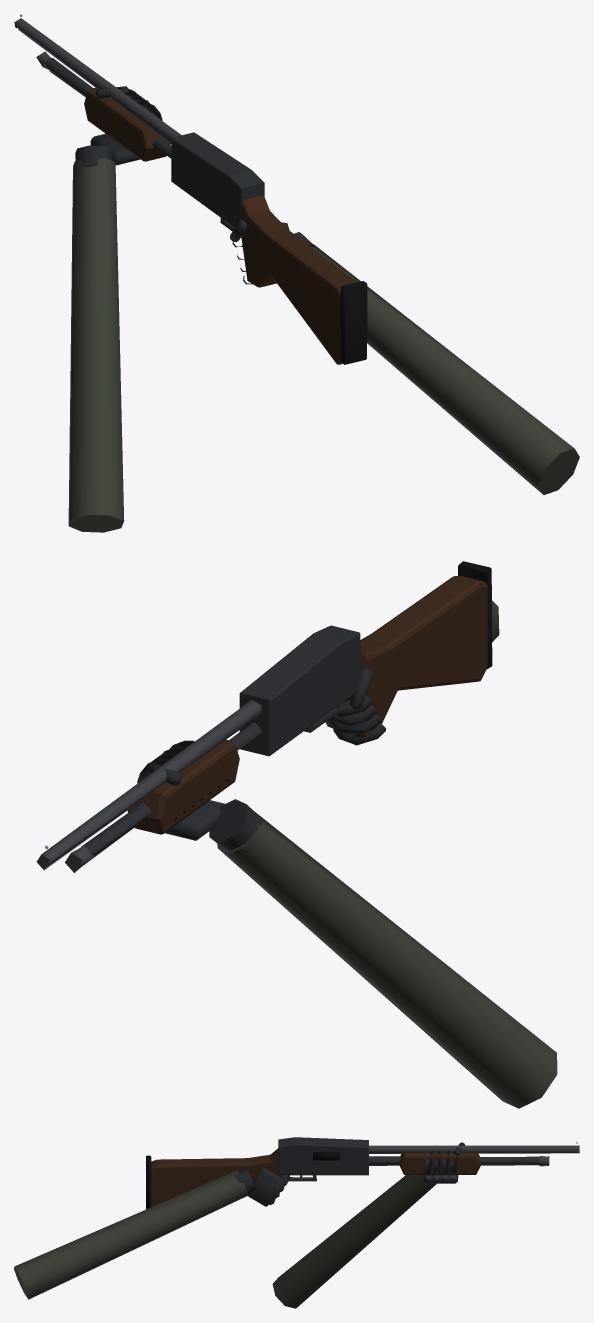
File: shotgun.glb
3 views of the same model, one above another, from view 1: azimuth 30°, elevation 25°; view 2: azimuth 150°, elevation 25°; view 3: azimuth 270°, elevation 25° (orthographic). The views are drawn at different scales.
Parts seen in each view (by area): view 1: Gloves (×2), object 5, object 1, object 3, object 2; view 2: Gloves (×2), object 5, object 1, object 3, object 2; view 3: Gloves (×2), object 5, object 1, object 3, object 2.
Part boxes in pixels (box(x1,y1,x2,y2)): Gloves (×2): box(68, 86, 579, 532); object 5: box(84, 87, 356, 364); object 1: box(45, 58, 264, 237); object 3: box(14, 18, 181, 143); object 2: box(14, 24, 367, 364); Gloves (×2): box(137, 600, 557, 1108); object 5: box(127, 576, 487, 834); object 1: box(81, 625, 360, 864); object 3: box(36, 700, 261, 872); object 2: box(174, 561, 492, 820); Gloves (×2): box(14, 1142, 465, 1308); object 5: box(150, 1148, 480, 1207); object 1: box(278, 1137, 539, 1181); object 3: box(300, 1145, 579, 1178); object 2: box(146, 1152, 466, 1209).
Size of the model in its own units: 0.5716 by 0.59 by 1.44.
